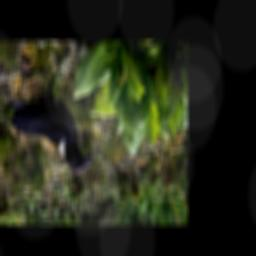Crow: (9, 74, 94, 175)
